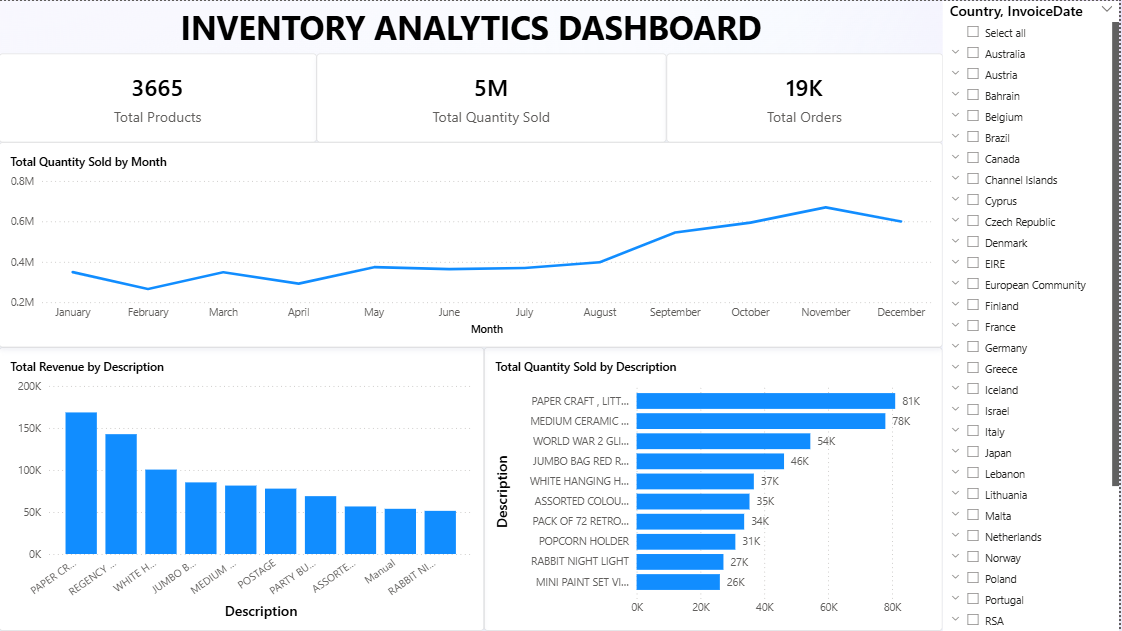

What the dashboard file says about the page in this screenshot:
{"tool":"powerbi","page":{"name":"Inventory Dashboard","canvas":[1280,720],"ordinal":3},"visuals":[{"type":"textbox","box":[0,0,1078.6,62.9],"z":0},{"type":"card","fields":{"Values":["Online Retail.Total Products"]},"box":[0,60,362.9,101.4],"z":1000},{"type":"card","fields":{"Values":["Online Retail.Total Quantity Sold"]},"box":[362.9,60,400,101.4],"z":2000},{"type":"card","fields":{"Values":["Online Retail.Total Orders"]},"box":[762.9,60,315.7,101.4],"z":3000},{"type":"barChart","fields":{"Category":["Online Retail.Description"],"Y":["Online Retail.Total Quantity Sold"]},"box":[554.3,395.7,524.3,324.3],"z":4000},{"type":"columnChart","fields":{"Category":["Online Retail.Description"],"Y":["Online Retail.Total Revenue"]},"box":[0,395.7,554.3,324.3],"z":5000},{"type":"lineChart","fields":{"Category":["Online Retail.InvoiceDate.Variation.Date Hierarchy.Month"],"Y":["Online Retail.Total Quantity Sold"]},"box":[0,161.4,1078.6,234.3],"z":6000},{"type":"slicer","fields":{"Values":["Online Retail.Country","Online Retail.InvoiceDate"]},"box":[1078.6,0,201.4,720],"z":7000}]}

Visuals, with their boxes in screenshot pixels (x1, y1, x2, y2), scaled from the page's 1280x720 canvas onto the 1122x631 screenshot:
textbox: (x1=0, y1=0, x2=945, y2=55)
card - Online Retail.Total Products: (x1=0, y1=53, x2=318, y2=141)
card - Online Retail.Total Quantity Sold: (x1=318, y1=53, x2=669, y2=141)
card - Online Retail.Total Orders: (x1=669, y1=53, x2=945, y2=141)
barChart - Online Retail.Description x Online Retail.Total Quantity Sold: (x1=486, y1=347, x2=945, y2=630)
columnChart - Online Retail.Description x Online Retail.Total Revenue: (x1=0, y1=347, x2=486, y2=630)
lineChart - Online Retail.InvoiceDate.Variation.Date Hierarchy.Month x Online Retail.Total Quantity Sold: (x1=0, y1=141, x2=945, y2=347)
slicer - Online Retail.Country x Online Retail.InvoiceDate: (x1=945, y1=0, x2=1121, y2=630)
